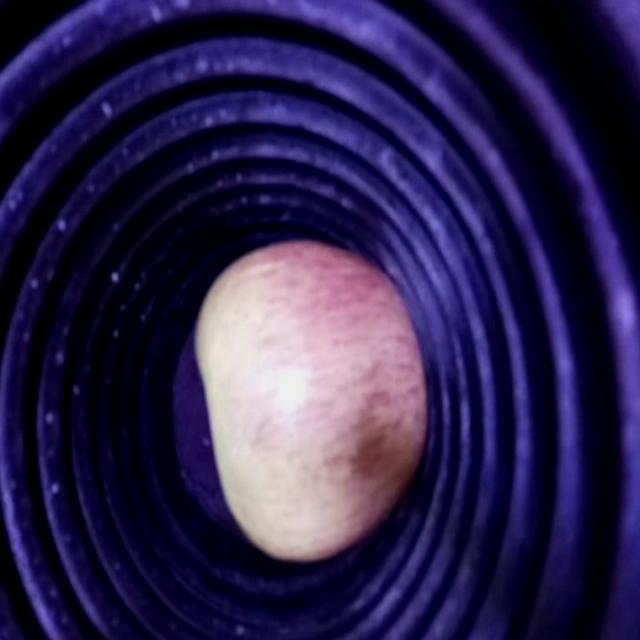obstacles: (198, 246, 424, 550)
